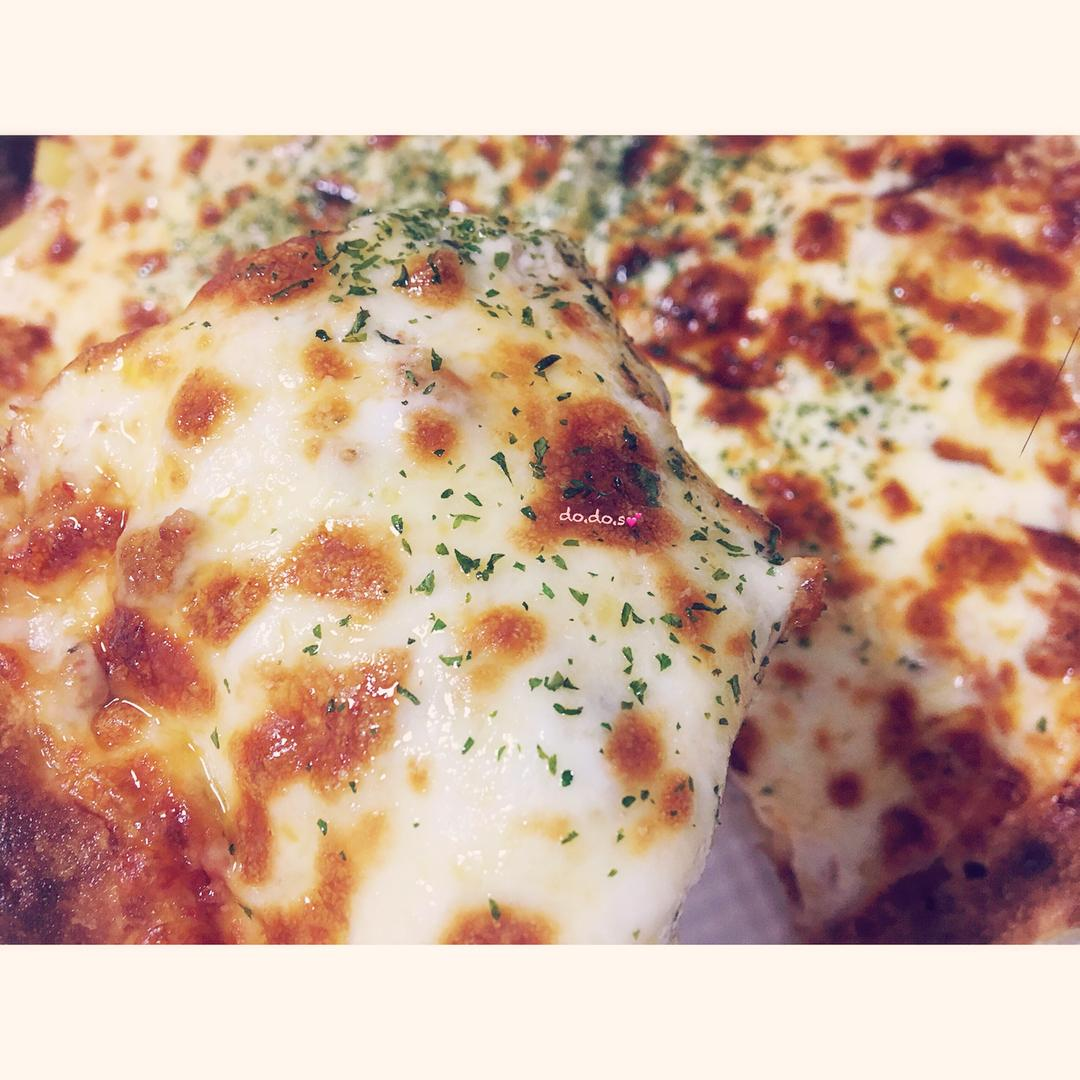Cheese: (374, 513, 668, 912), (84, 328, 456, 513), (0, 135, 335, 327), (806, 388, 1080, 559)
Pizza: (0, 137, 1080, 945)
